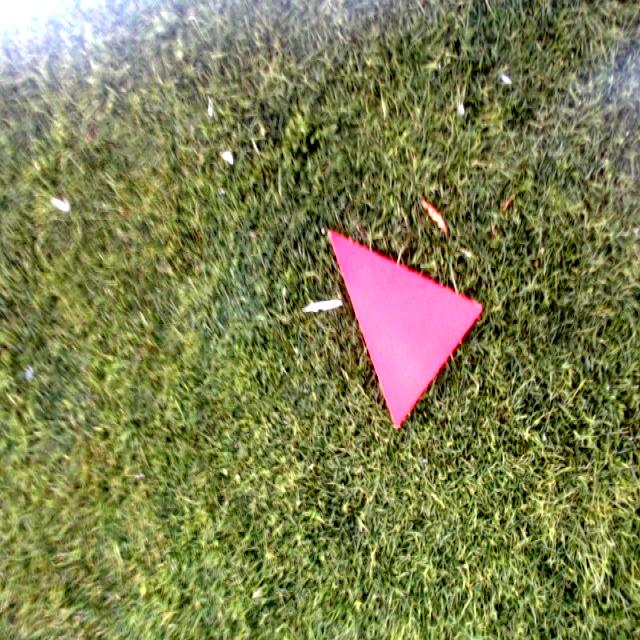red_triangle: (328, 227, 482, 428)
